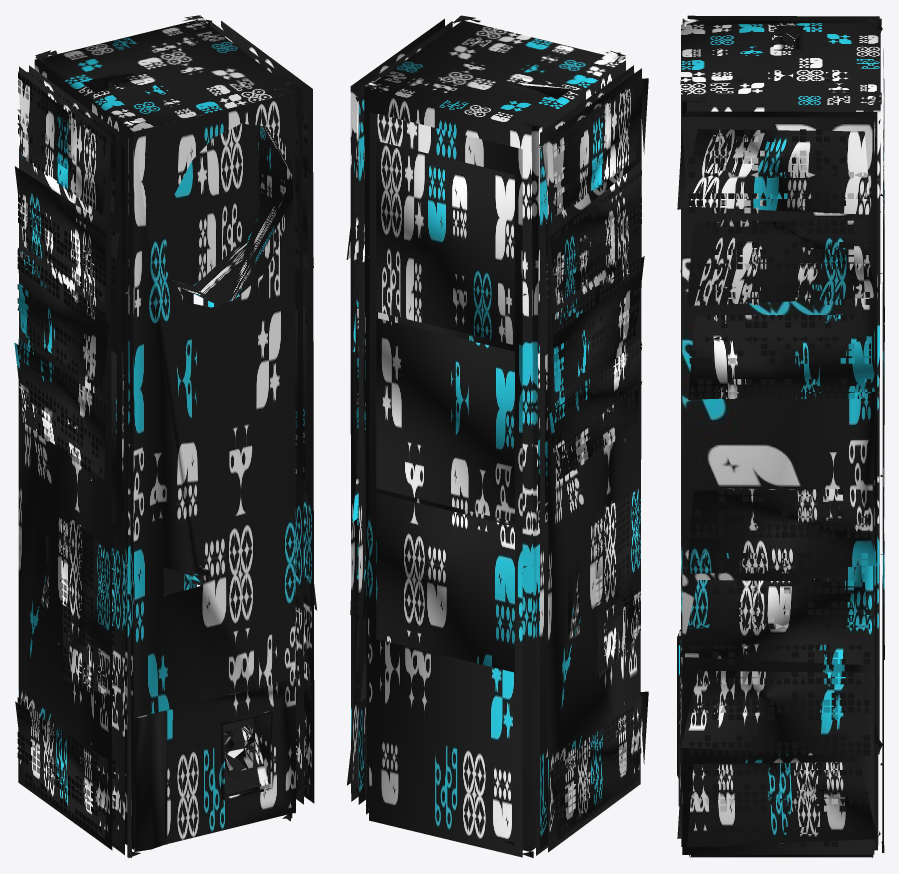
The model's file is cubesat-mirata.glb.
3 views of the same model, side by side, from view 1: azimuth 30°, elevation 25°; view 2: azimuth 150°, elevation 25°; view 3: azimuth 270°, elevation 25° (orthographic). The views are drawn at different scales.
Visible parts, largest first — view 1: A; view 2: A; view 3: A.
Part boxes in pixels (x1,y1,x2,y2): A: (14, 15, 317, 857); A: (346, 15, 648, 857); A: (677, 15, 884, 857).
Size of the model in its own units: 0.5851 by 2 by 0.4945.
65 materials, 65 textured.
